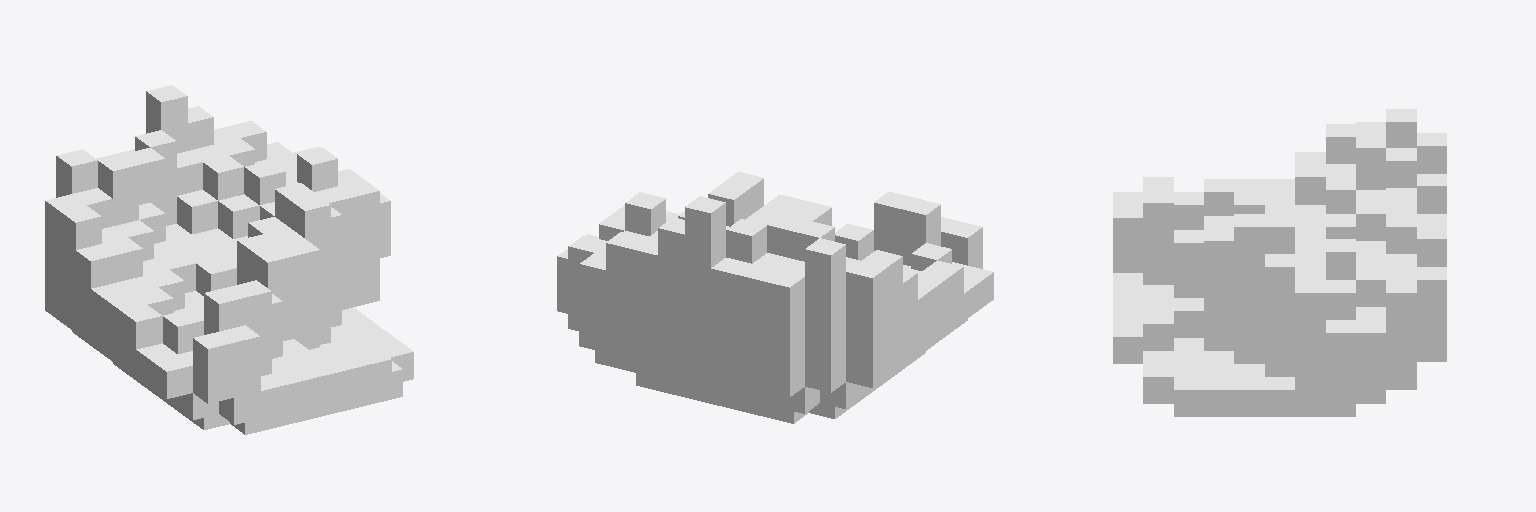
The model's file is Pumpkin-(Bits)-1.obj.
The picture shows the model from 3 angles: view 1: azimuth 30°, elevation 25°; view 2: azimuth 150°, elevation 25°; view 3: azimuth 270°, elevation 25°; orthographic projection.
Visible parts, largest first — view 1: object 1; view 2: object 1; view 3: object 1.
Boxes of the visible parts, x1=… form: object 1: x1=45, y1=85, x2=413, y2=434; object 1: x1=557, y1=172, x2=993, y2=423; object 1: x1=1113, y1=109, x2=1446, y2=416.
Size of the model in its own units: 1.2 by 0.8 by 1.1.